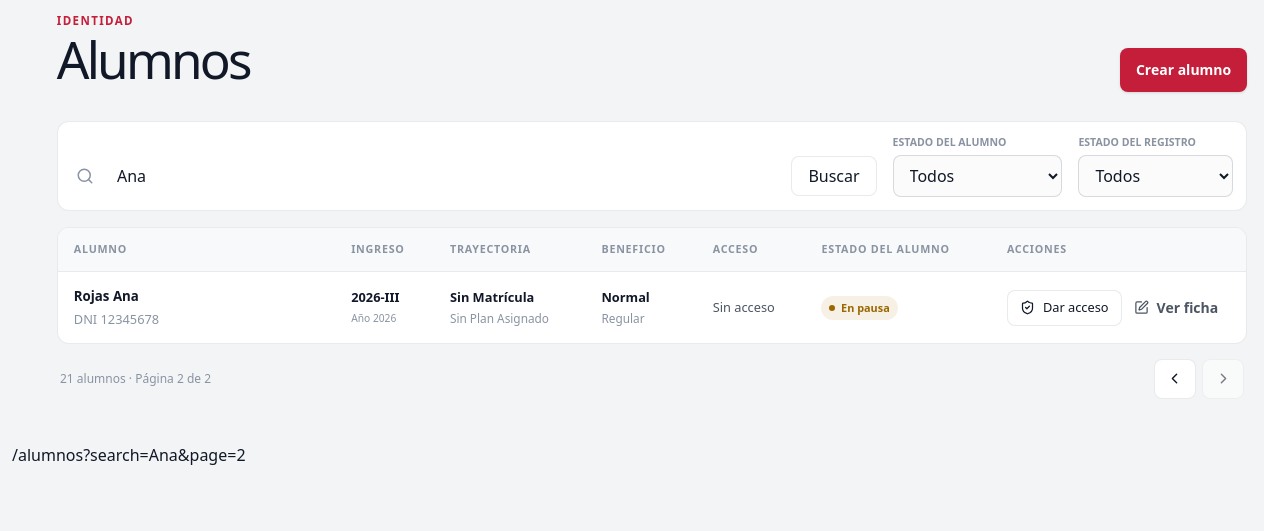
Test: acceso directo ALUMNO › un clic crea acceso con el rol del directorio y conserva filtros y página
The width and height of the screenshot is (1264, 531).
Click the button "Dar acceso" at coordinates (1064, 308), box [1007,290,1122,326]
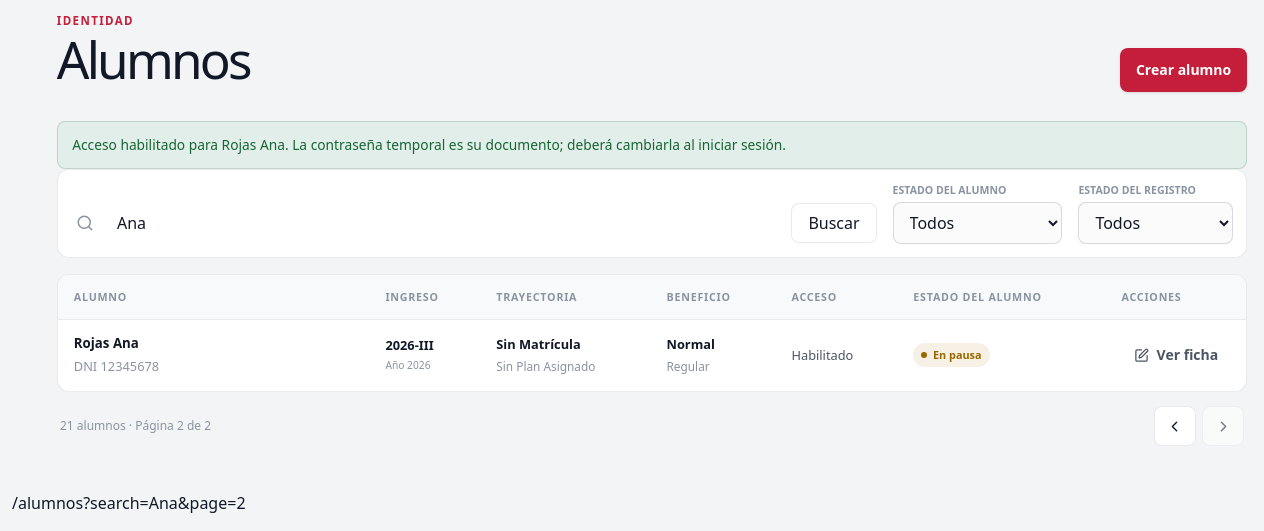
Check: the text "Acceso habilitado para" is shown, box [72,135,786,154]
Check: the text "Habilitado" is shown, box [776,319,897,391]
Check: the button "Dar acceso" is gone
